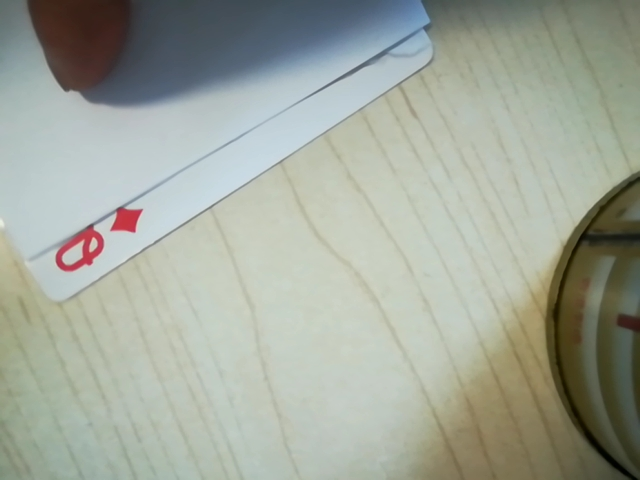fk q: (42, 199, 149, 283)
